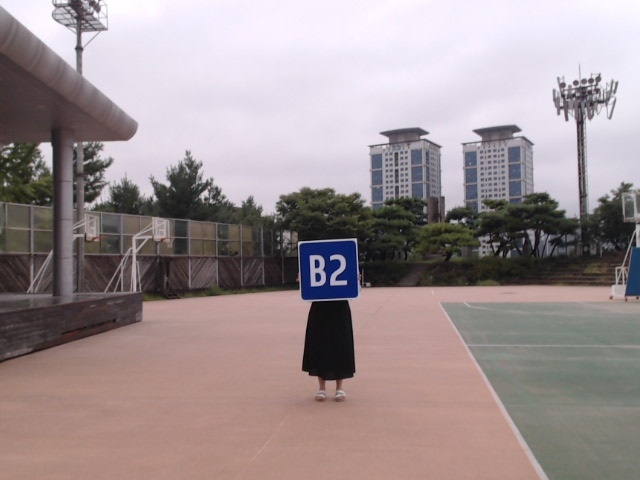delivery_b2: (298, 240, 358, 300)
